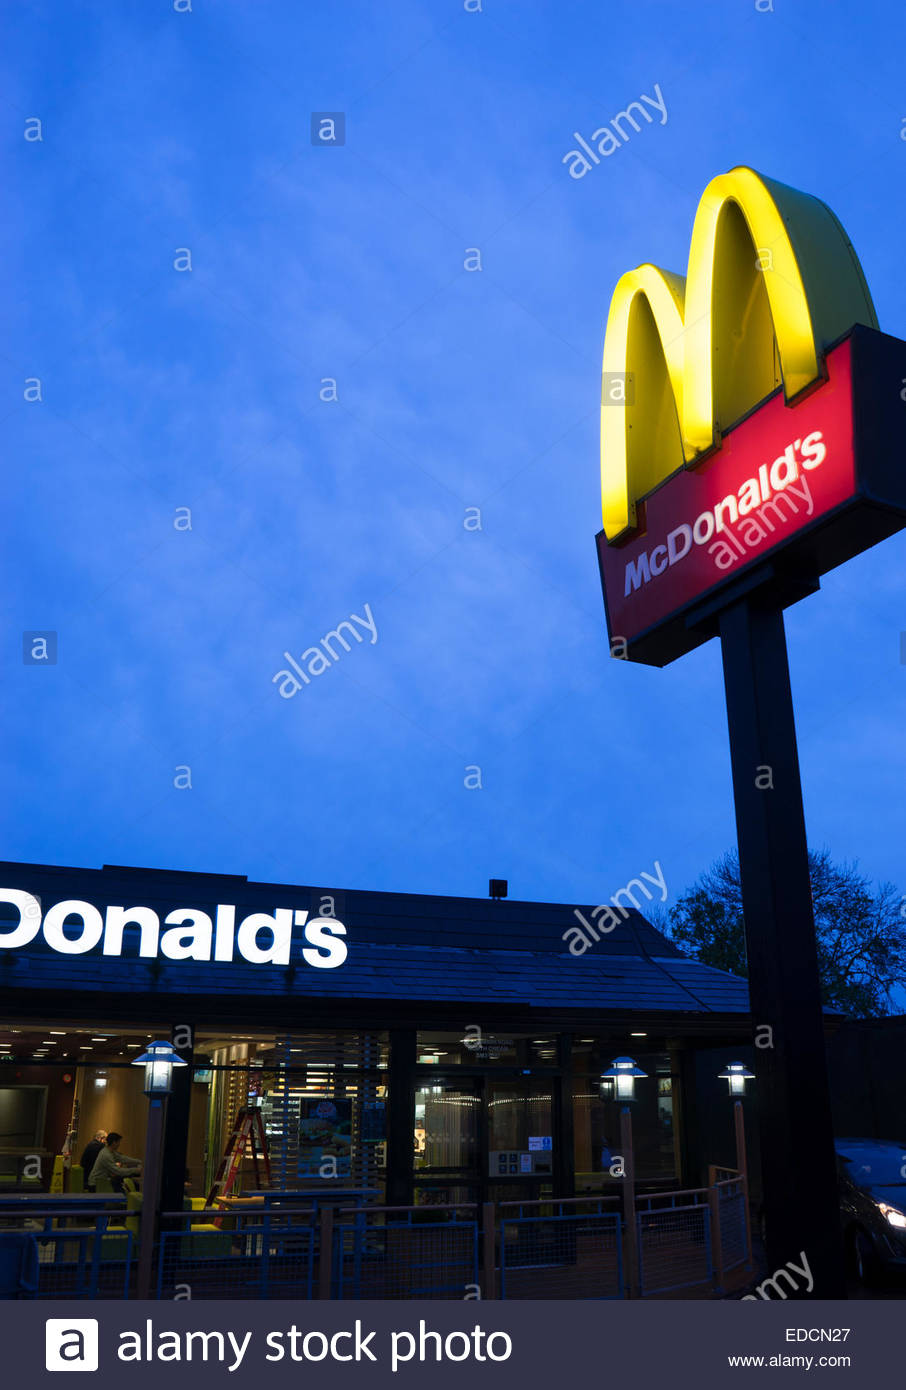mcdonalds: (591, 162, 817, 531)
